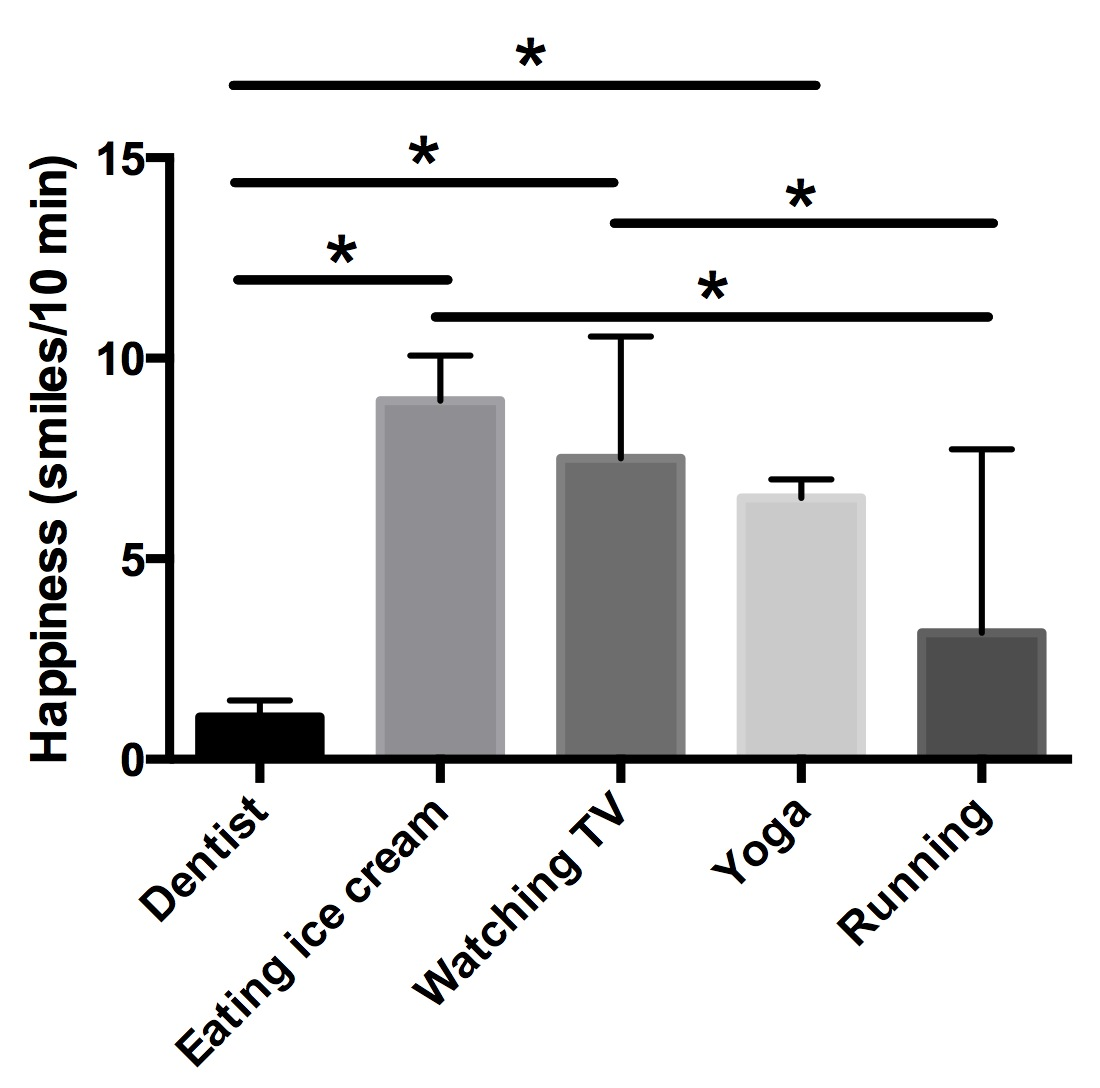OK_NoIssue: (27, 33, 1100, 1078)
